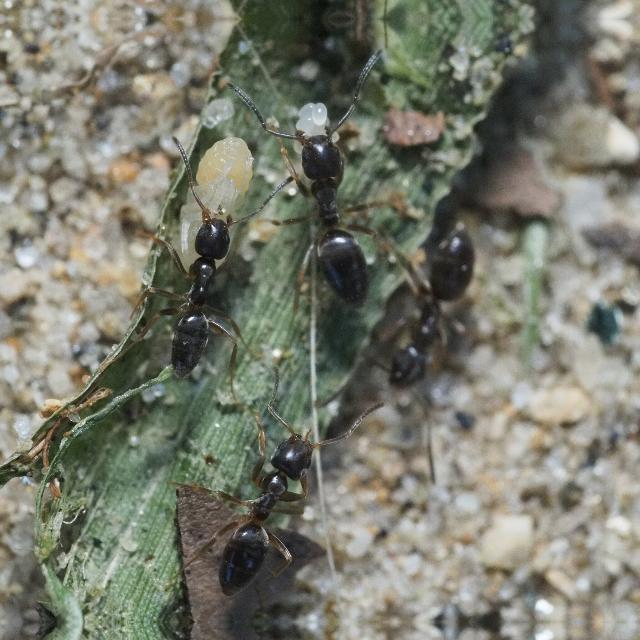Tapinoma: (188, 399, 350, 607), (262, 88, 408, 314), (126, 179, 260, 391), (366, 200, 504, 404)
